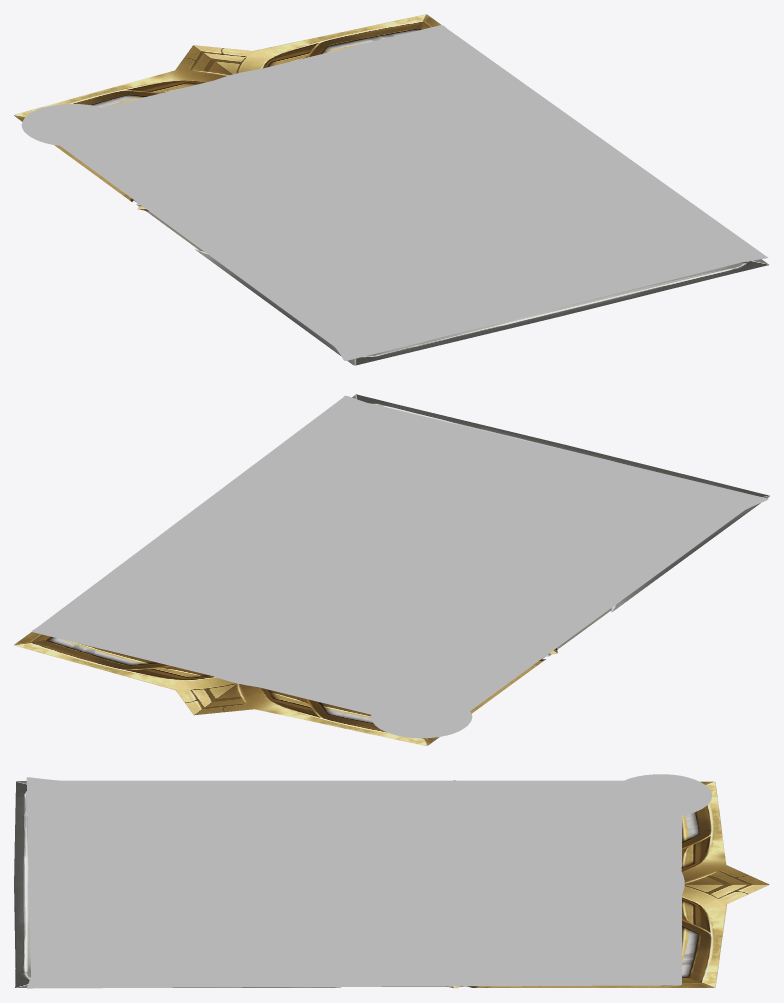
File: spell-newonhand.fbx
3 views of the same model, one above another, from view 1: azimuth 30°, elevation 25°; view 2: azimuth 150°, elevation 25°; view 3: azimuth 270°, elevation 25° (orthographic). The views are drawn at different scales.
Visible parts, largest first — view 1: frame, print.001, back.001; view 2: frame, print.001, back.001; view 3: frame, print.001, back.001, shard.005, shard.006, shard.009, shard.007, shard.008.
Part boxes in pixels (box(x1,y1,x2,y2)): frame: box(21, 25, 768, 360); print.001: box(109, 39, 684, 324); back.001: box(14, 14, 768, 365); frame: box(32, 395, 768, 738); print.001: box(67, 431, 684, 709); back.001: box(14, 394, 769, 745); frame: box(26, 774, 711, 988); print.001: box(87, 787, 669, 977); back.001: box(14, 780, 769, 988); shard.005: box(577, 782, 625, 802); shard.006: box(528, 782, 576, 802); shard.009: box(380, 782, 428, 802); shard.007: box(478, 782, 526, 802); shard.008: box(429, 782, 477, 802).
Size of the model in its own units: 52.06 by 0.4198 by 77.52.
